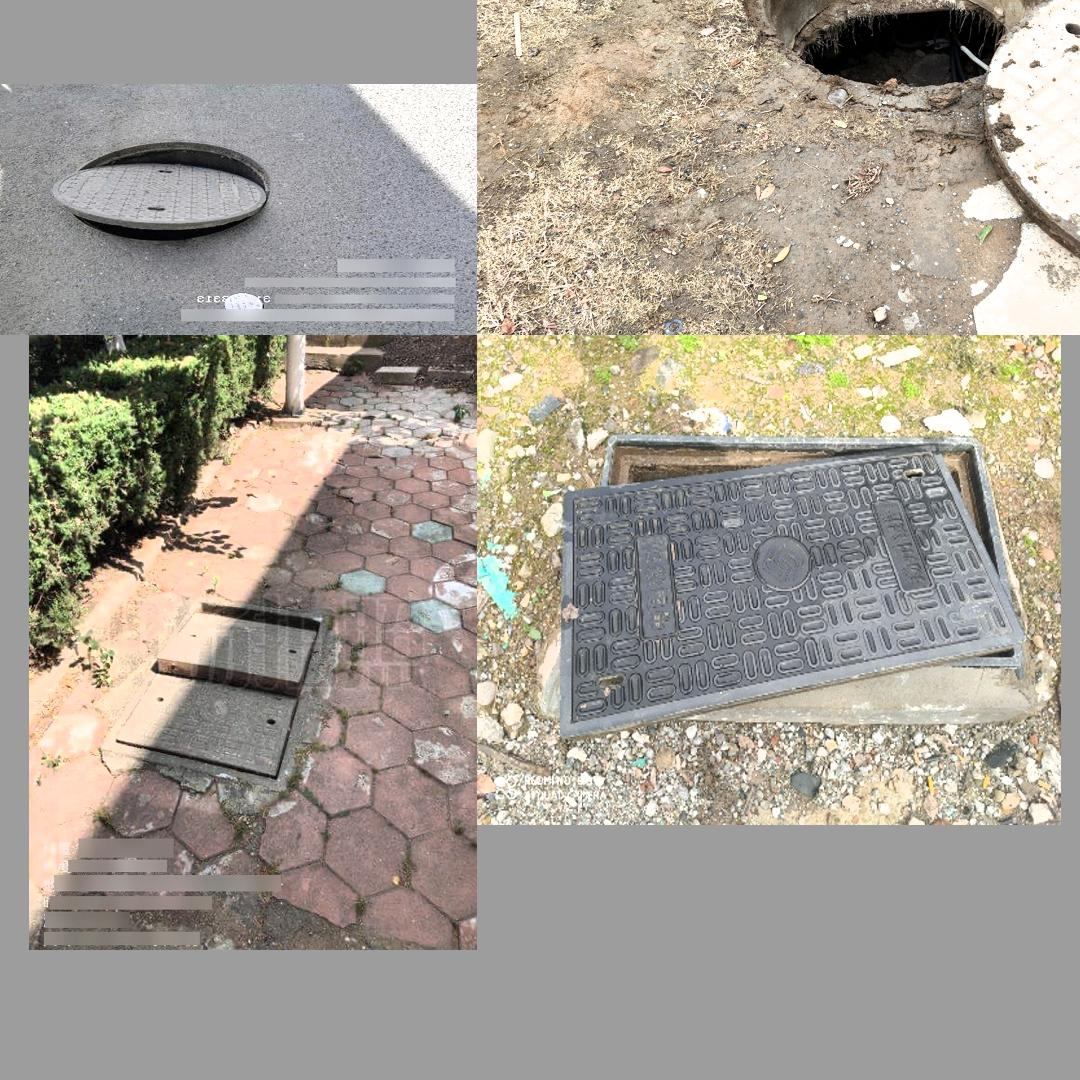uncovered: (559, 434, 1022, 732), (746, 0, 1080, 314), (101, 593, 335, 792), (53, 141, 270, 239)
